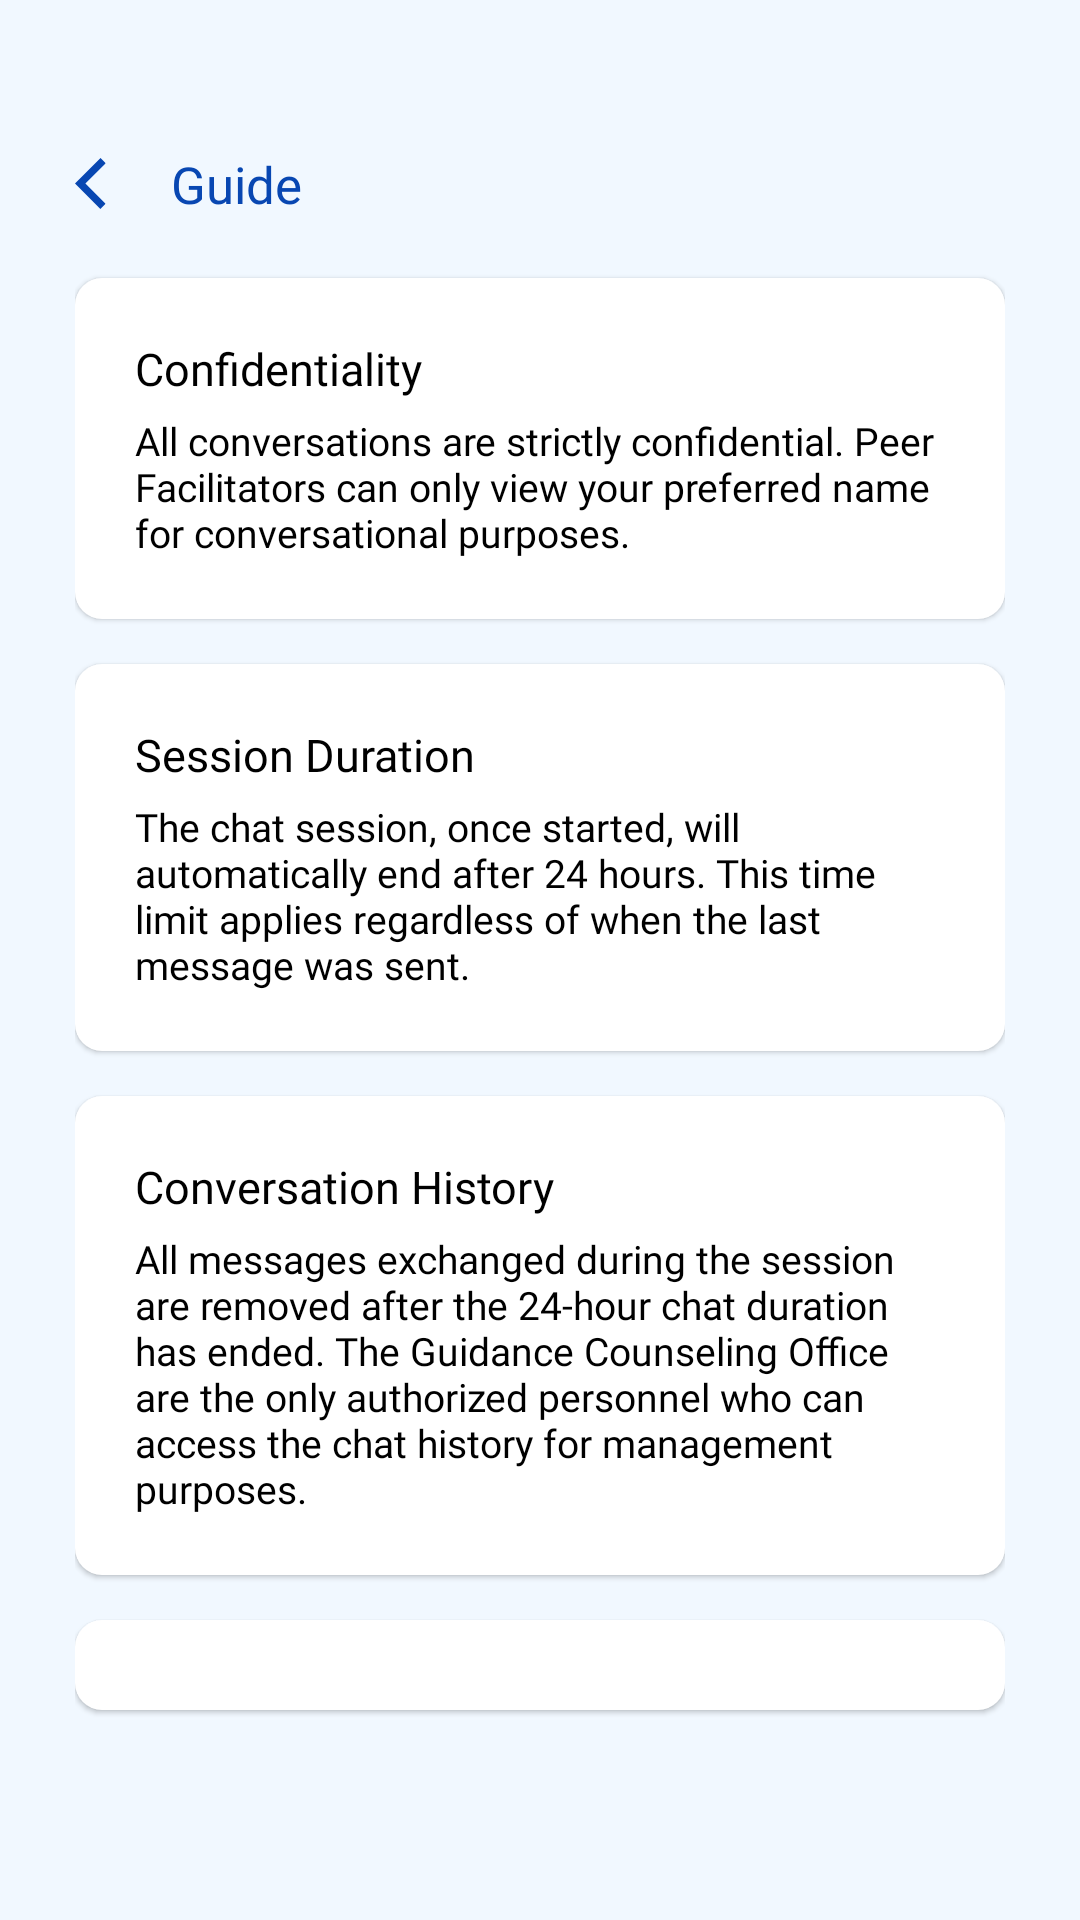

Screen size 1080x1920. Icon name, then its box in pixels as (left=x1, top=y1, right=x2, bottom=y2):
return: (left=75, top=158, right=106, bottom=209)
